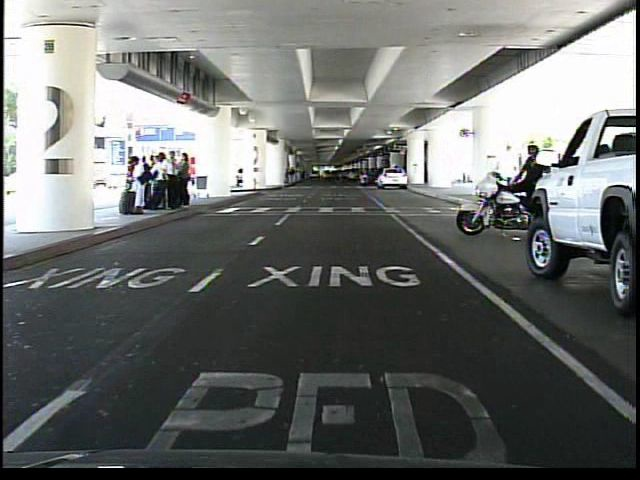person: (511, 133, 552, 238)
